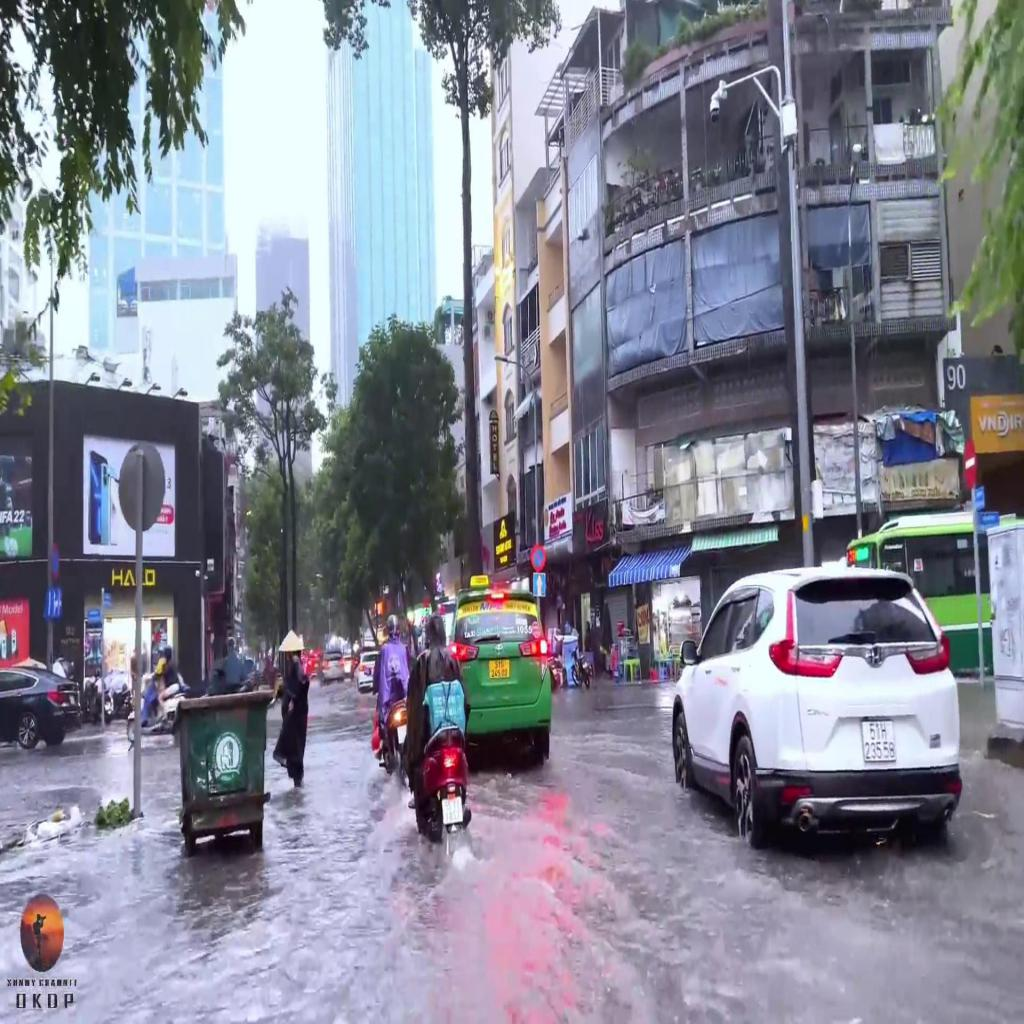cam_do_xe: (530, 544, 546, 571)
duong_mot_chieu: (532, 574, 546, 596)
